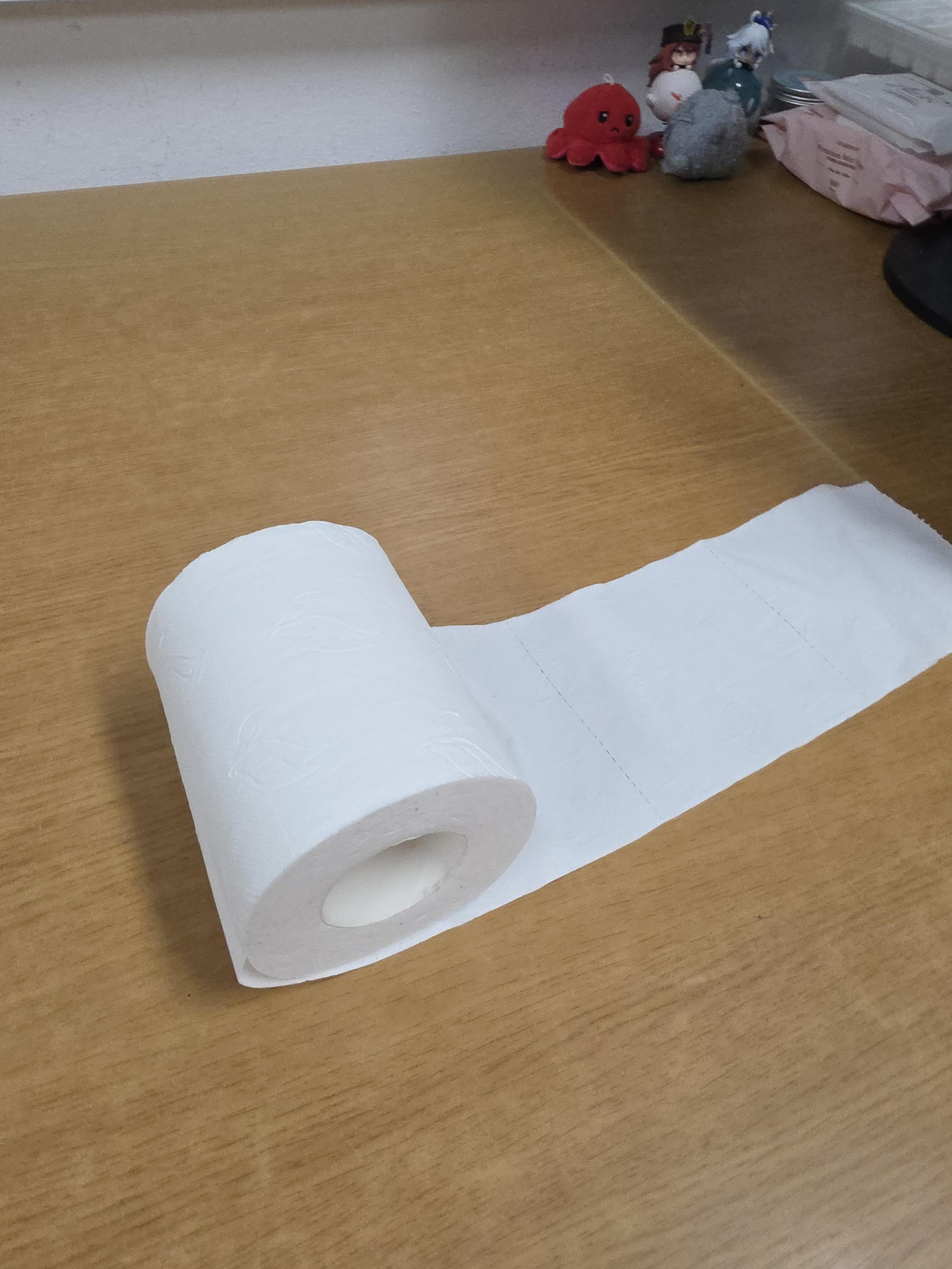tissue: (145, 480, 951, 990)
